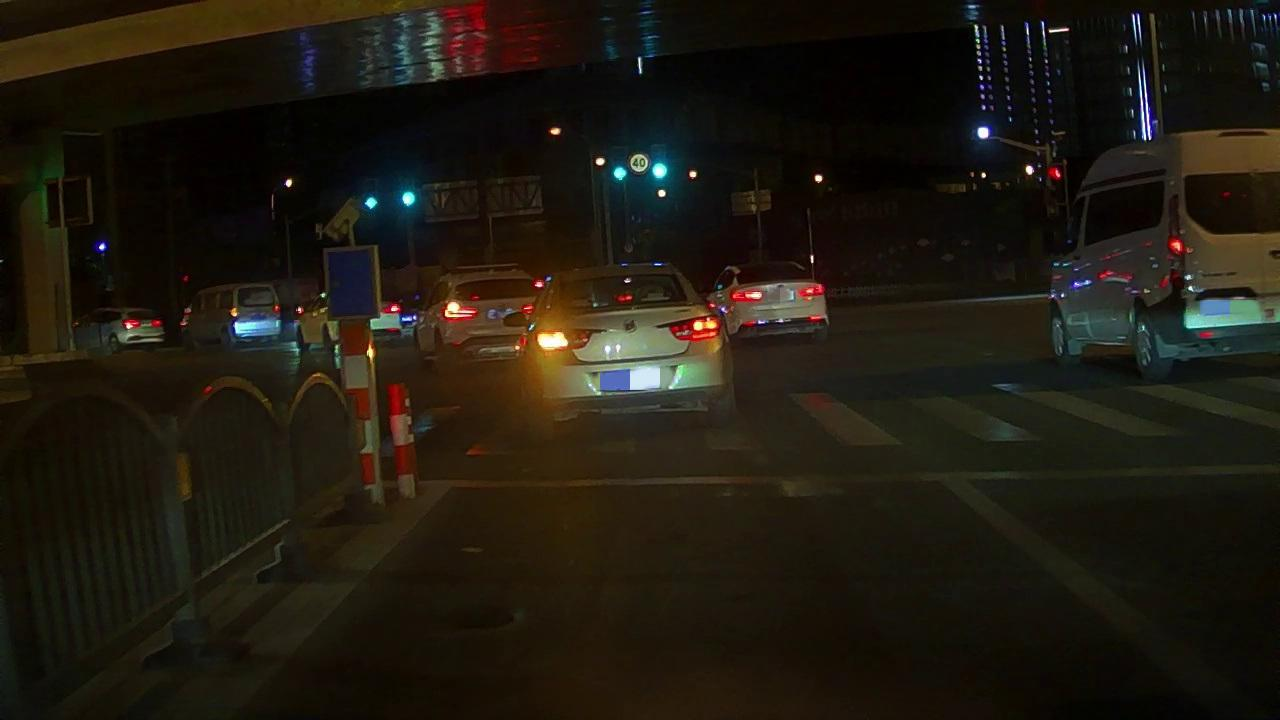traffic_light: (648, 160, 673, 182), (608, 163, 631, 183), (360, 193, 381, 214), (397, 189, 419, 209)
